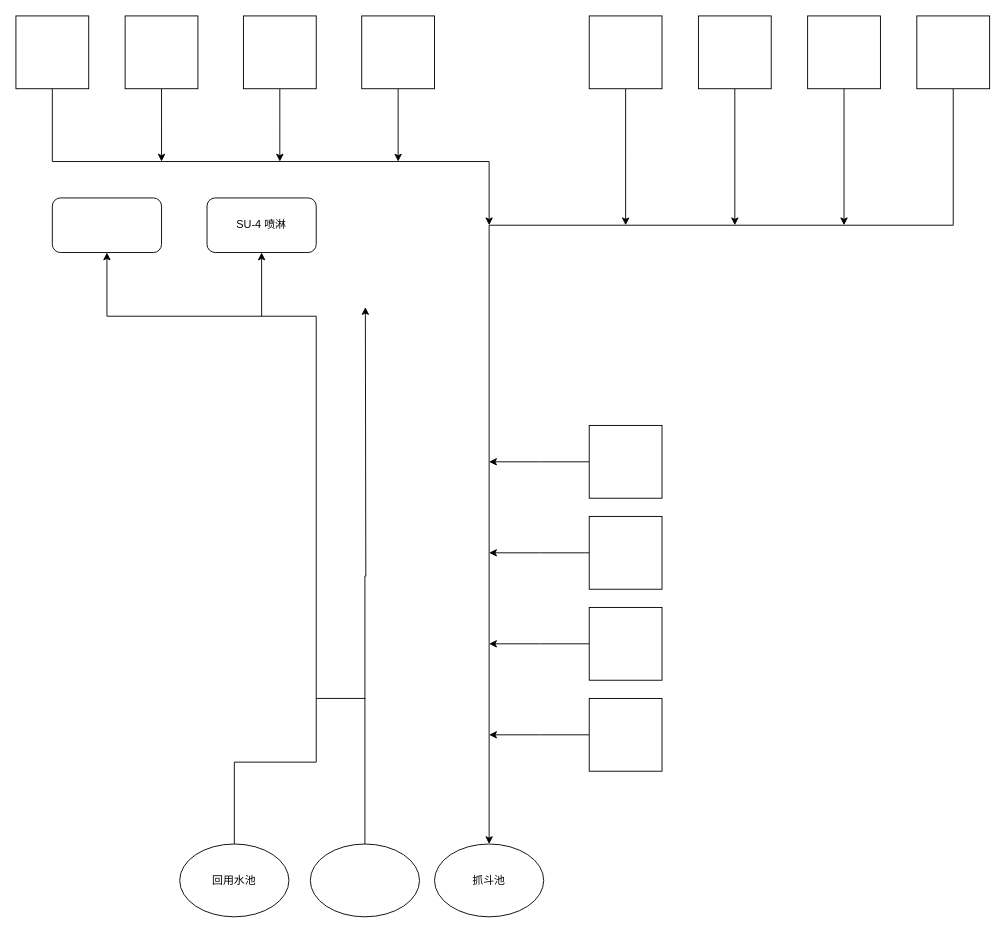
This 1006x933 diagram has some shape labels left out. Here are the shapes that lost their labels. From the top down, the centre of each, then its label:
At point (106, 225): "SU-3 喷淋".
At point (364, 880): "清水池".
